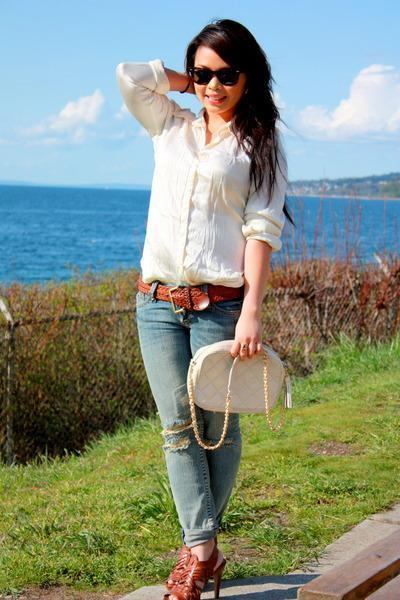bag: (187, 342, 291, 449)
pants: (136, 300, 241, 539)
shirt: (115, 58, 300, 290)
shoe: (162, 520, 230, 599)
sunglass: (181, 52, 244, 93)
